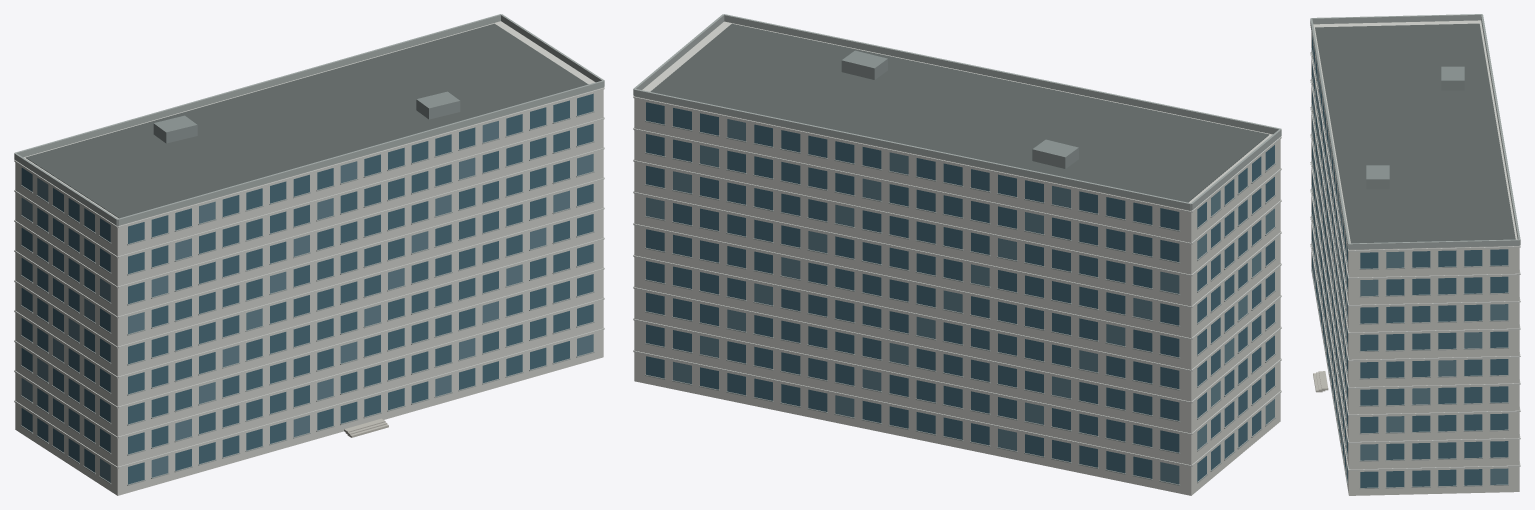
File: 软件园与科创楼-010.glb
3 renders of one model, left to right at view 1: azimuth 30°, elevation 25°; view 2: azimuth 150°, elevation 25°; view 3: azimuth 270°, elevation 25°, orthographic. The views are drawn at different scales.
Parts seen in each view (by area): view 1: 软件园与科创楼-010; view 2: 软件园与科创楼-010; view 3: 软件园与科创楼-010.
Boxes of the visible parts, x1,y1,x2,y2 form: 软件园与科创楼-010: [14, 14, 604, 495]; 软件园与科创楼-010: [633, 14, 1281, 495]; 软件园与科创楼-010: [1310, 14, 1520, 495].
Size of the model in its own units: 66.08 by 34.42 by 25.5.
